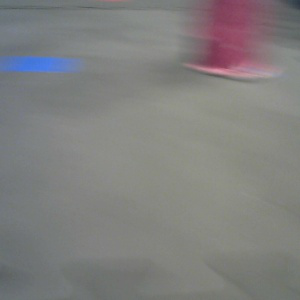Right: (184, 1, 280, 80)
